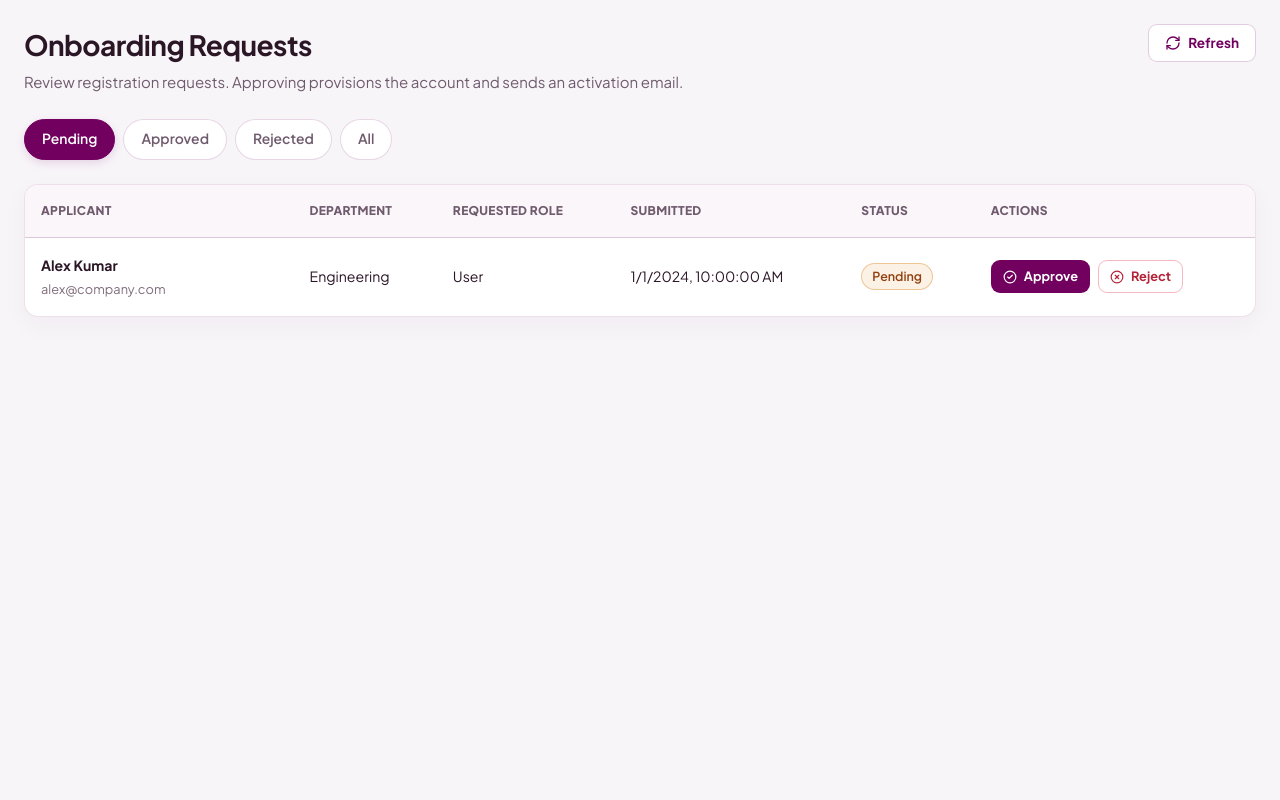
Test: Onboarding › approves a ticket and provisions the account
Click the button "Approve" at coordinates (1040, 277), box [991, 260, 1090, 293]
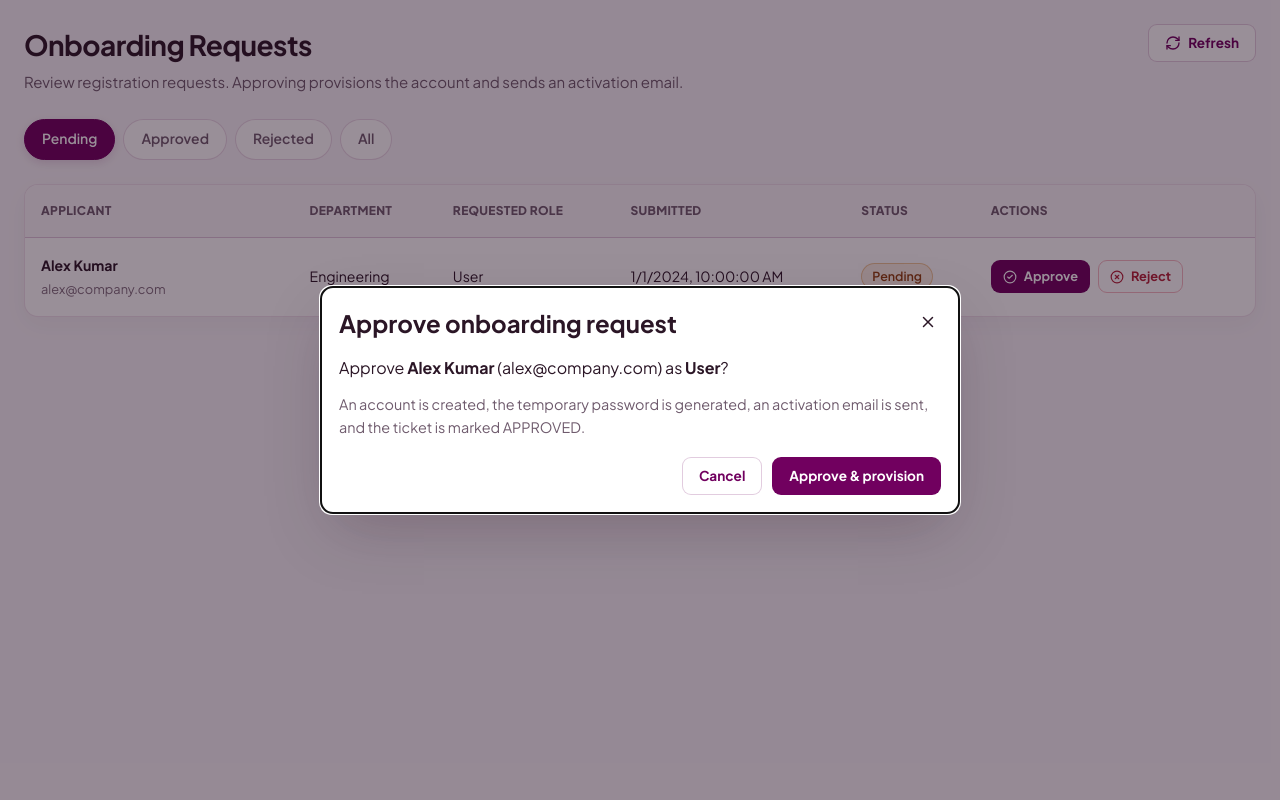
Result: the heading "Approve onboarding request" is shown at [339, 305, 677, 341]
Click the button "Approve & provision" at coordinates (857, 476), box [772, 457, 941, 495]
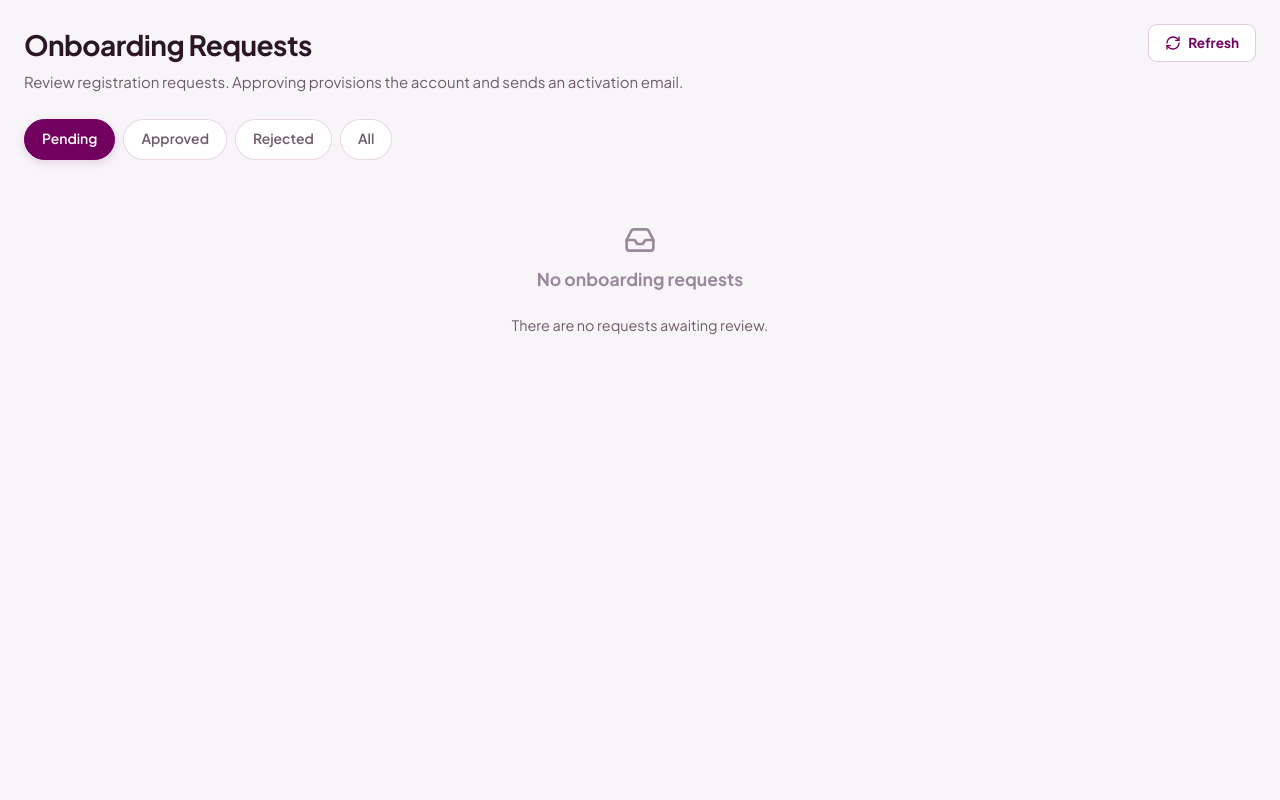
Click the tab "Approved" at coordinates (175, 139), box [123, 119, 227, 160]
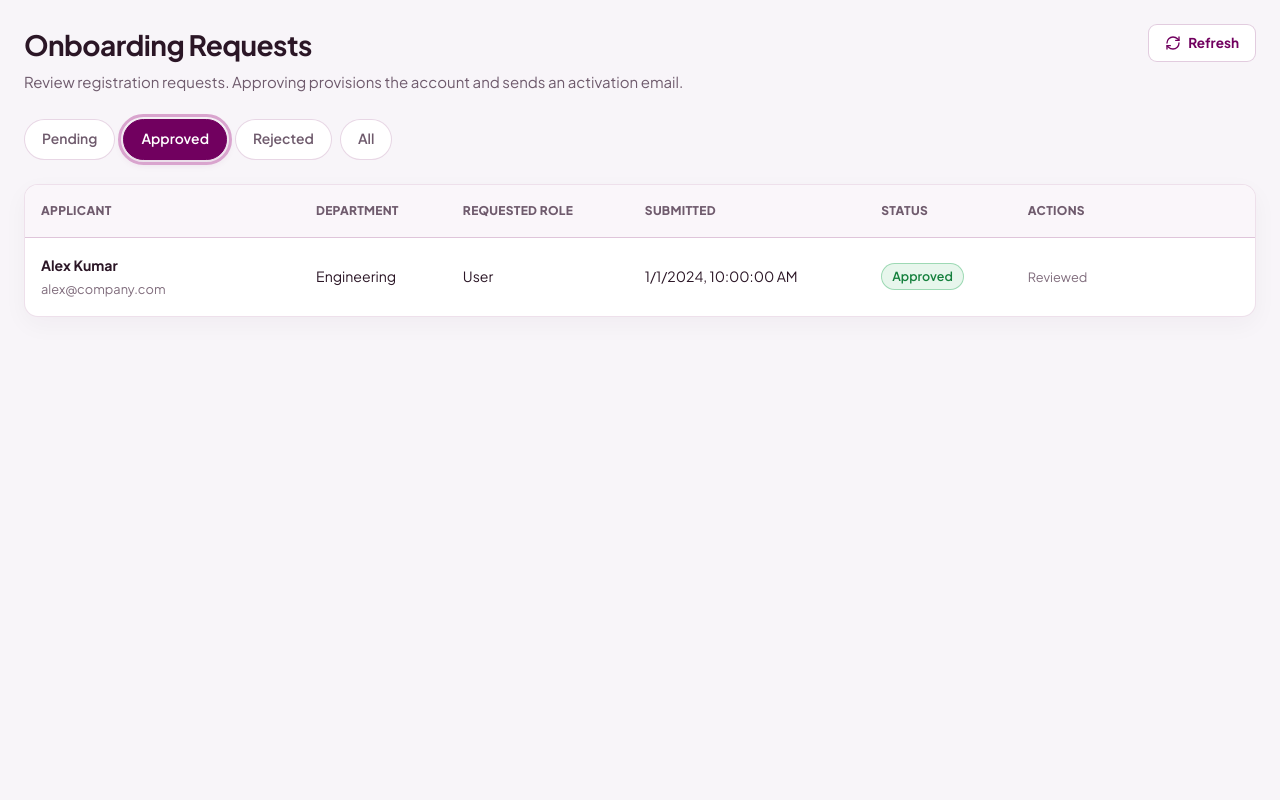
Result: the text "Approved" is shown at [881, 263, 964, 290]
